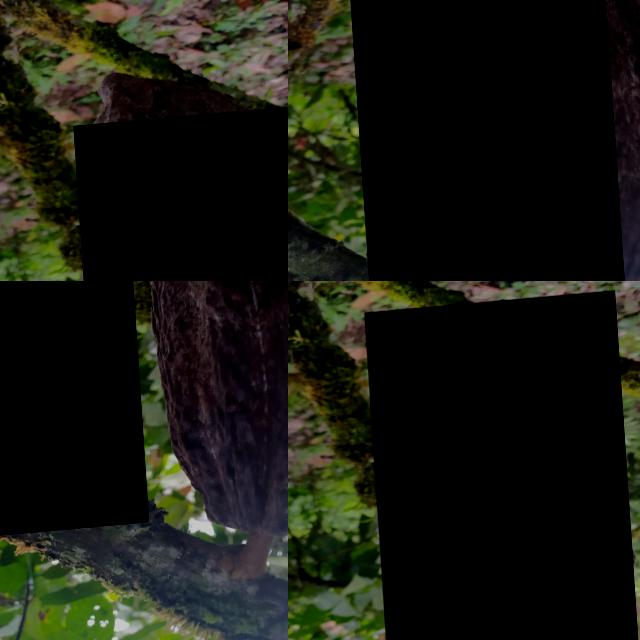Fitoftora: (363, 299, 634, 640), (0, 281, 142, 539)
Monilia: (347, 0, 621, 281)
Sana: (71, 107, 288, 281)
